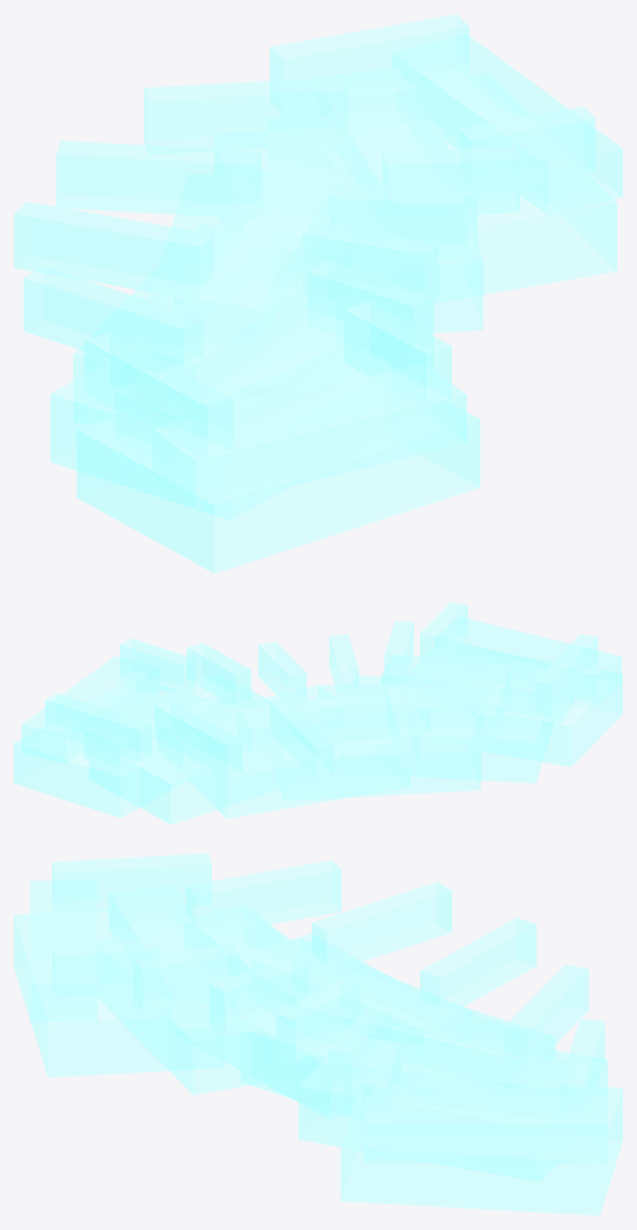
The model's file is GH_Rail_Curve.fbx.
3 views of the same model, one above another, from view 1: azimuth 30°, elevation 25°; view 2: azimuth 150°, elevation 25°; view 3: azimuth 270°, elevation 25° (orthographic). The views are drawn at different scales.
Parts seen in each view (by area): view 1: SM_Rail_Curve; view 2: SM_Rail_Curve; view 3: SM_Rail_Curve.
Part boxes in pixels (x1,y1,x2,y2): SM_Rail_Curve: (14, 14, 622, 573); SM_Rail_Curve: (14, 602, 622, 824); SM_Rail_Curve: (14, 853, 622, 1215).
Bounding box in the file's own units: 1.44 × 0.295 × 1.44.
